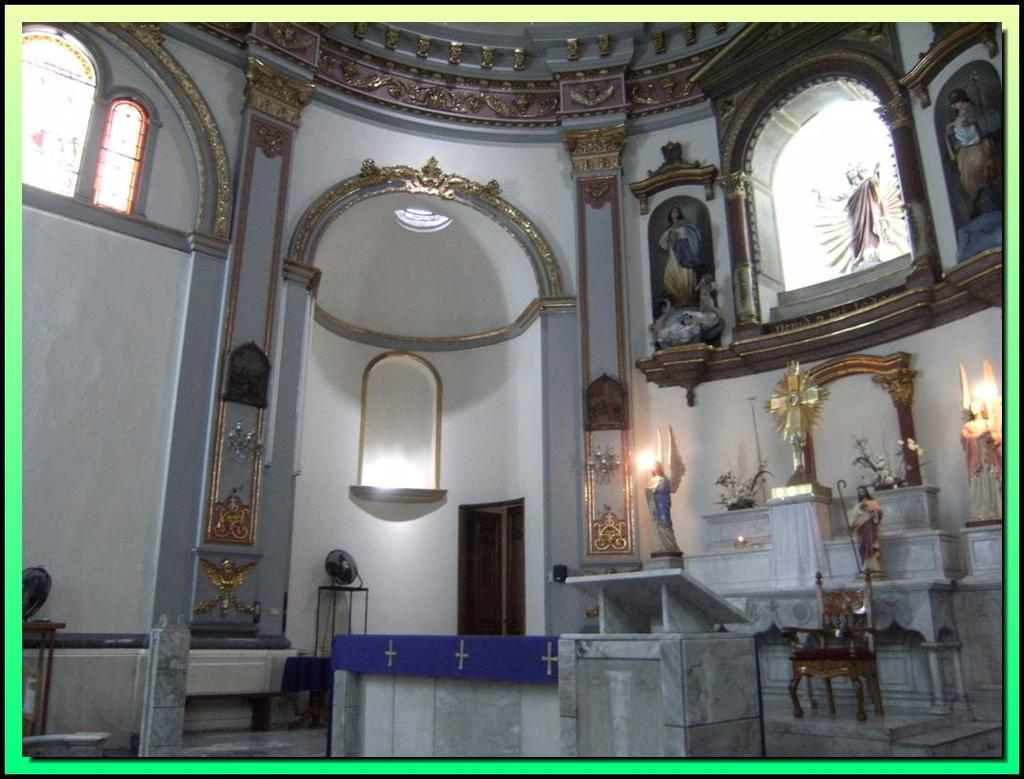Chair: (799, 614, 886, 735)
